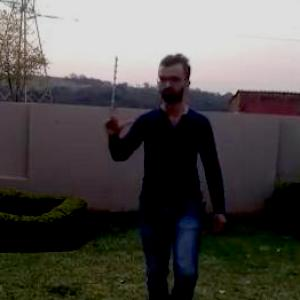land_hand: (103, 92, 141, 138)
